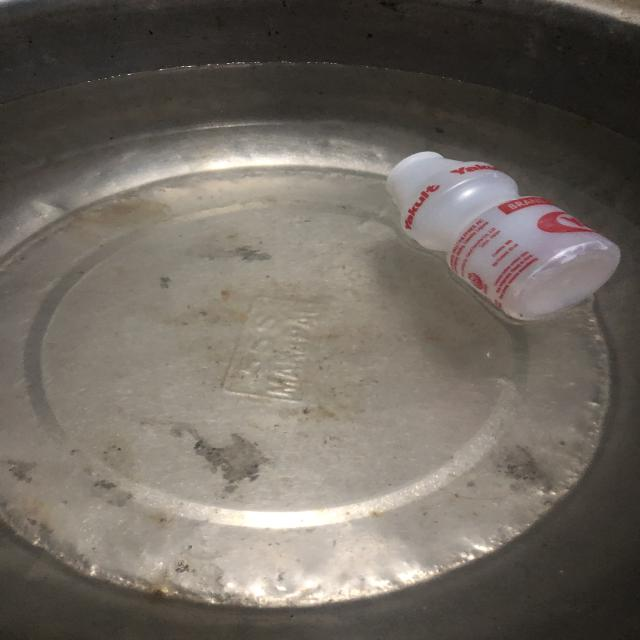Plastic Bottle: (356, 142, 611, 344)
